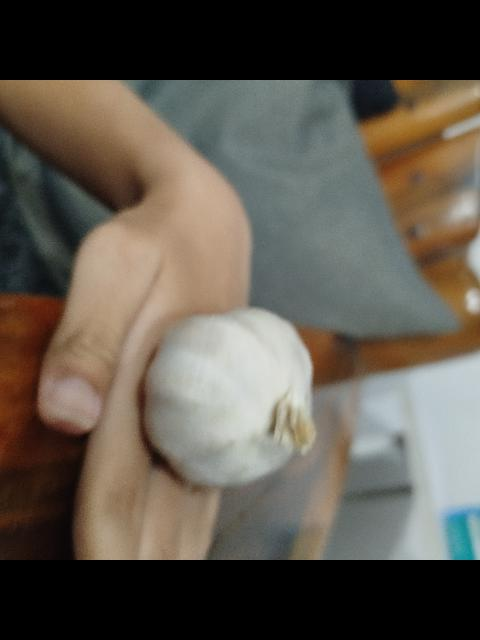garlic: (142, 307, 316, 488)
